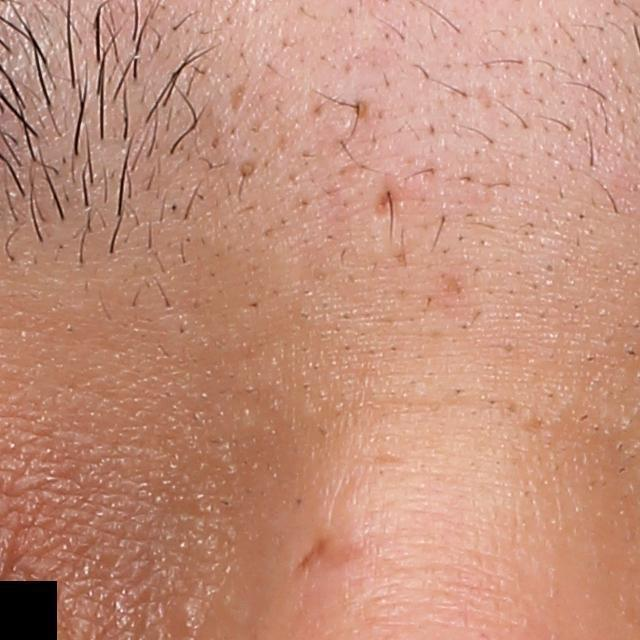atrophic_scar: (294, 536, 362, 574), (373, 168, 411, 224), (224, 82, 255, 121)
comedo: (162, 580, 207, 637), (235, 158, 261, 182)
